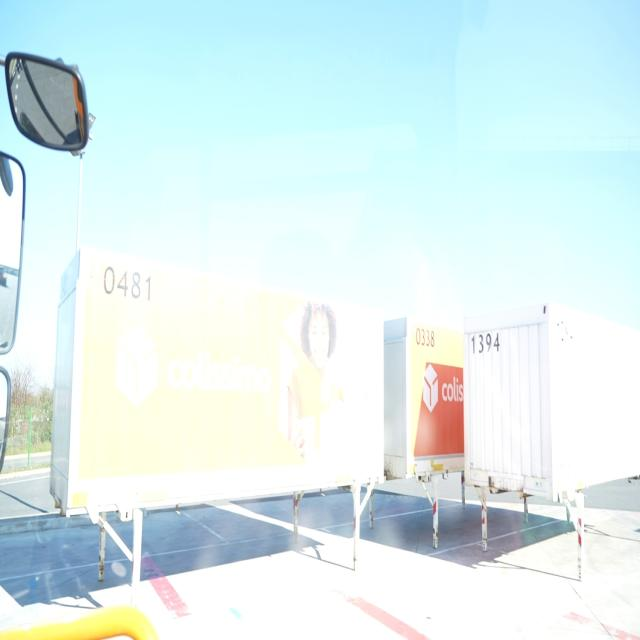Code: (101, 258, 156, 308), (465, 326, 503, 361), (410, 322, 437, 353)
